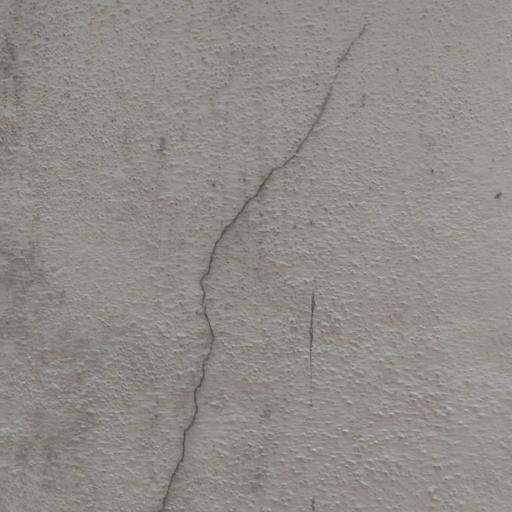minor_crack: (142, 19, 386, 512)
